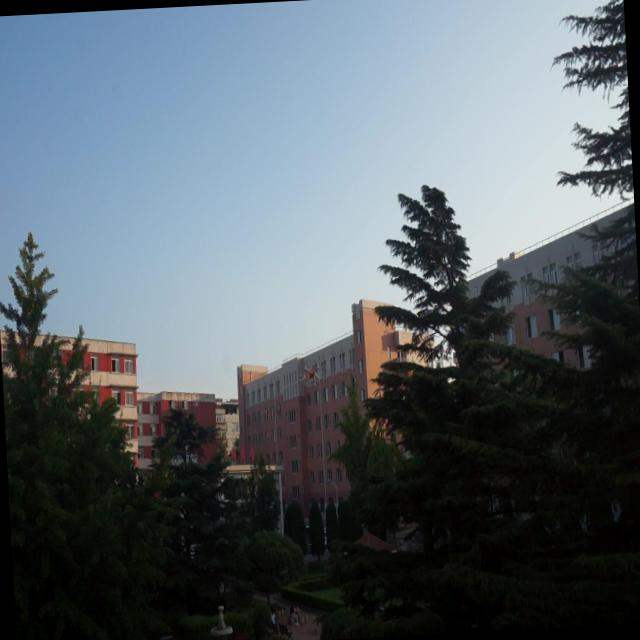drone: (300, 360, 323, 386)
